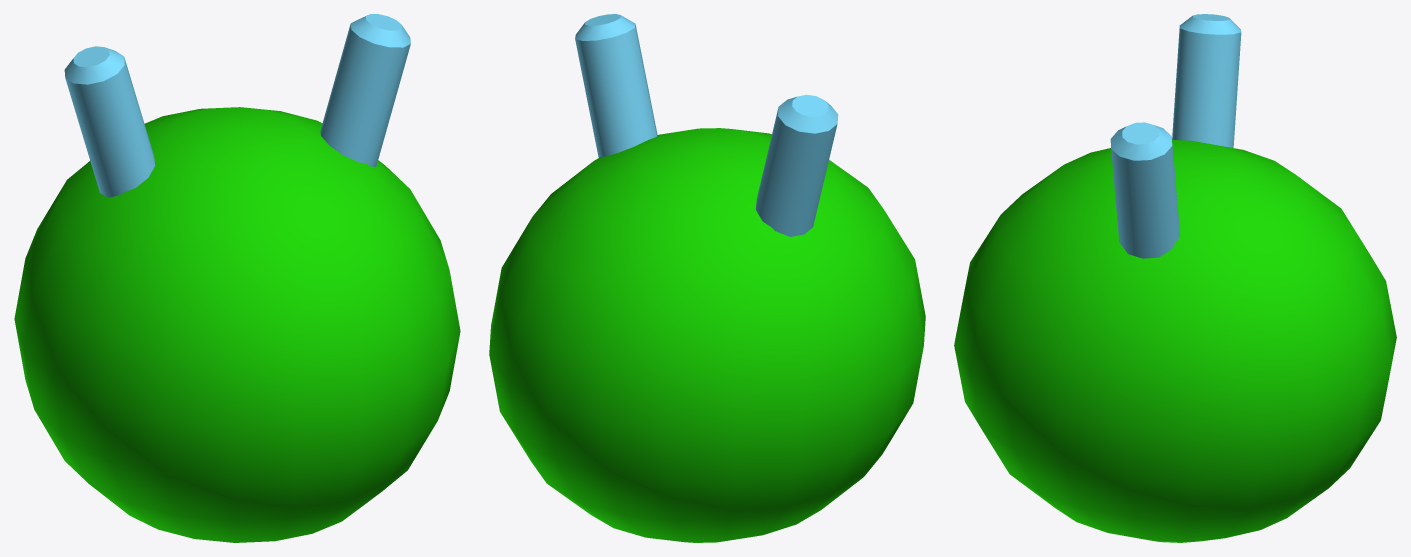
The model's file is 005-Cake_Knife2.FBX.
3 views of the same model, side by side, from view 1: azimuth 30°, elevation 25°; view 2: azimuth 150°, elevation 25°; view 3: azimuth 270°, elevation 25° (orthographic). The views are drawn at different scales.
Visible parts, largest first — view 1: 005-Cake_Knife2; view 2: 005-Cake_Knife2; view 3: 005-Cake_Knife2.
Part boxes in pixels (<box>): 005-Cake_Knife2: <box>14,14,460,542</box>; 005-Cake_Knife2: <box>489,14,925,542</box>; 005-Cake_Knife2: <box>954,14,1396,542</box>.
Size of the model in its own units: 25.96 by 31.29 by 27.68.
